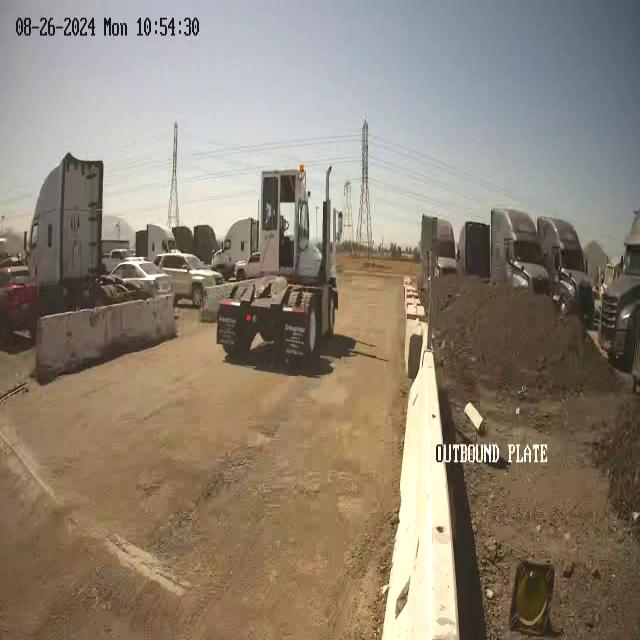BOBTAIL: (215, 163, 341, 369)
